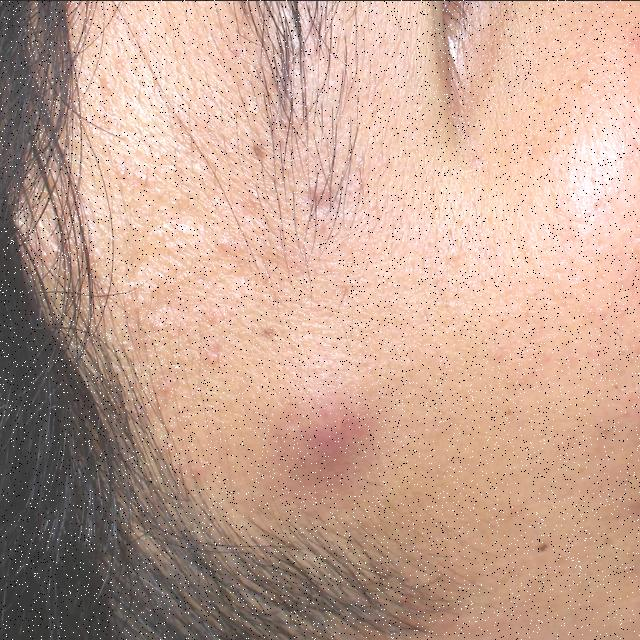nodules: (260, 370, 392, 492)
